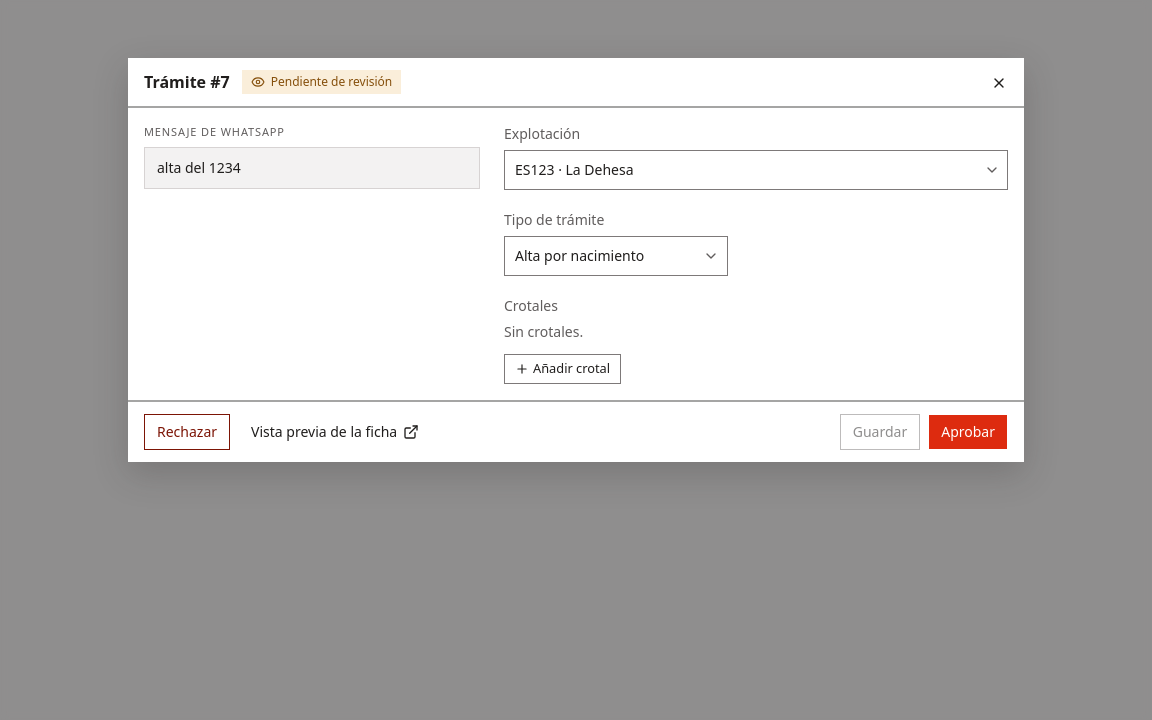
Test: TramiteReviewDialog: errores visibles › el 400 de aprobar muestra el motivo del backend, no un texto genérico
This screenshot has width=1152, height=720.
Expected: the heading "Trámite #7" is shown, left=144, top=70, right=230, bottom=94
Step 1. Click the button "Aprobar" → [968, 432], box left=928, top=414, right=1008, bottom=450
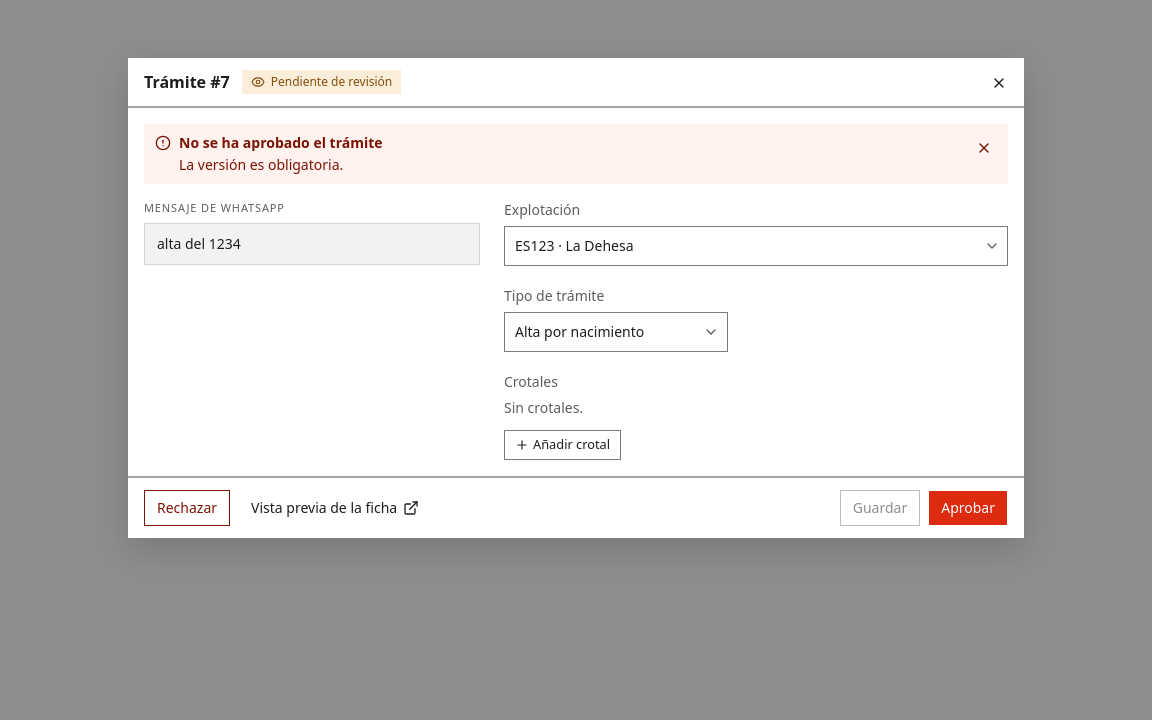
Expected: the text "La versión es obligatoria." is shown, left=179, top=155, right=343, bottom=174
